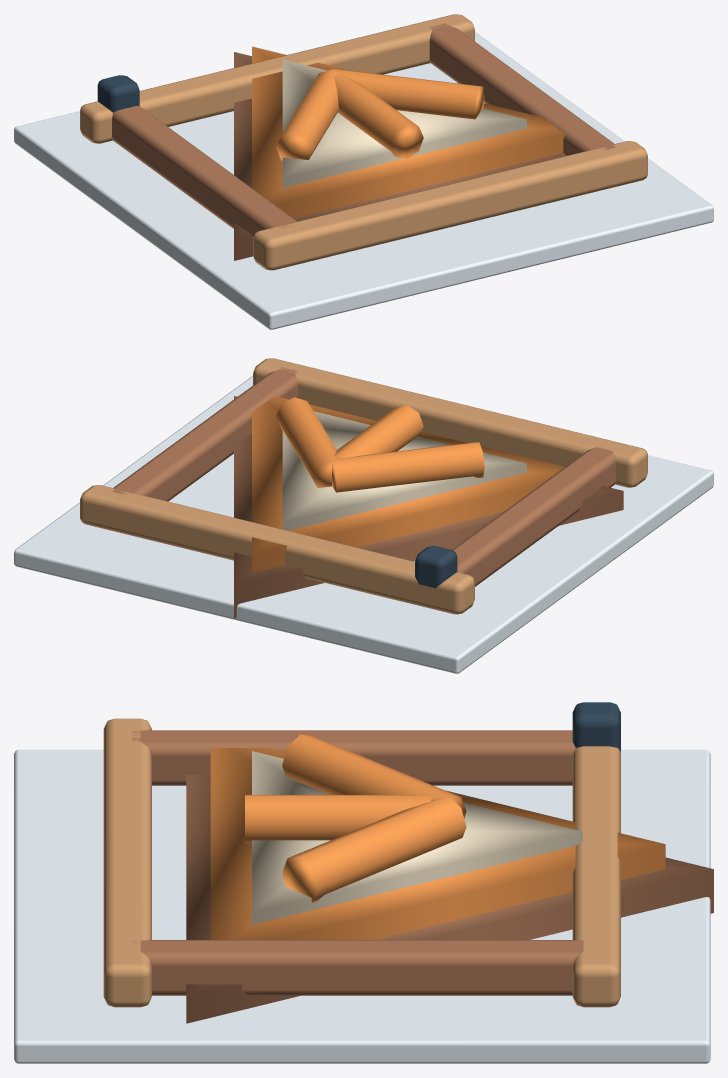
Rendered from pad_upgrade.glb.
3 renders of one model, top to bottom at view 1: azimuth 30°, elevation 25°; view 2: azimuth 150°, elevation 25°; view 3: azimuth 270°, elevation 25°, orthographic. The views are drawn at different scales.
Parts seen in each view (by area): view 1: pad_upgrade; view 2: pad_upgrade; view 3: pad_upgrade.
Boxes of the visible parts, x1,y1,x2,y2 form: pad_upgrade: (14,14,713,329); pad_upgrade: (14,358,713,673); pad_upgrade: (14,702,713,1063).
Bounding box in the file's own units: 2.02 × 0.3925 × 2.03.
